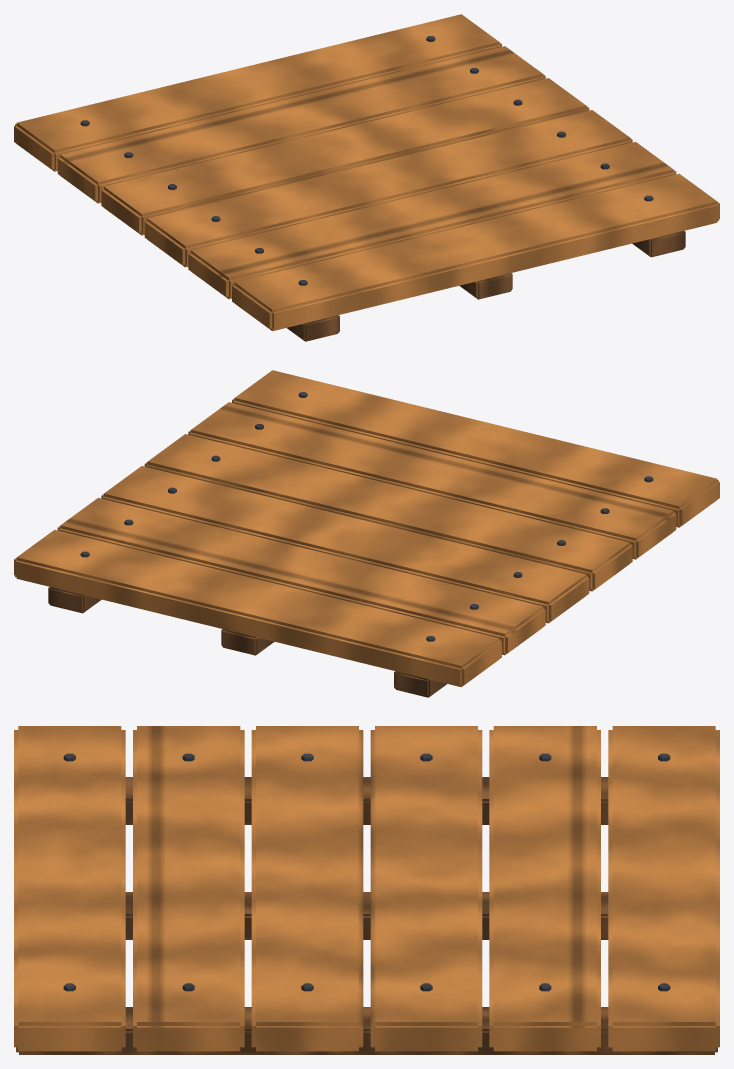
Rendered from floor_wood.glb.
The picture shows the model from 3 angles, top to bottom: view 1: azimuth 30°, elevation 25°; view 2: azimuth 150°, elevation 25°; view 3: azimuth 270°, elevation 25°; orthographic projection. The views are drawn at different scales.
Visible parts, largest first — view 1: floor_wood; view 2: floor_wood; view 3: floor_wood.
Part boxes in pixels (x1,y1,x2,y2): floor_wood: (14, 14, 719, 341); floor_wood: (14, 370, 719, 697); floor_wood: (14, 726, 719, 1054).
Size of the model in its own units: 0.99 by 0.09 by 0.986.
Materials: 3 (3 with a texture image).
